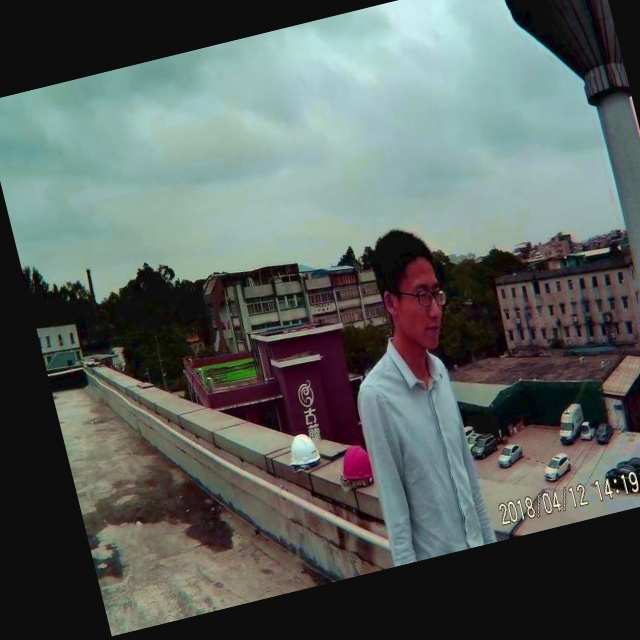Sin_Casco_Mascarrilla: (363, 221, 455, 358)
